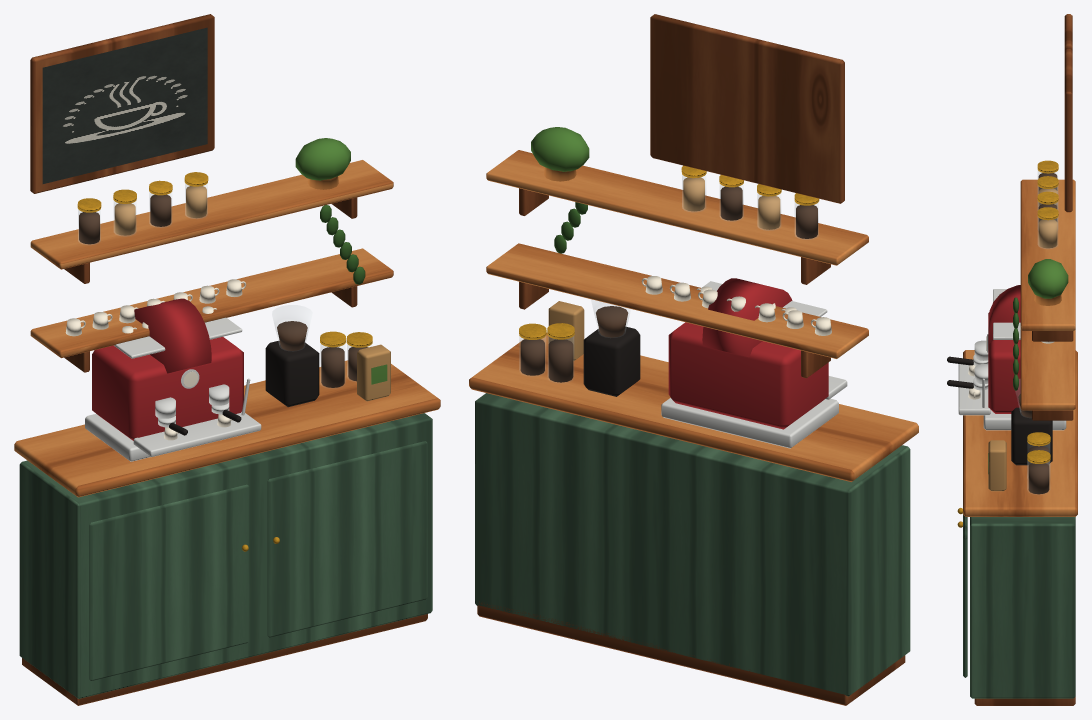
Rendered from espresso_bar.glb.
The picture shows the model from 3 angles, left to right: view 1: azimuth 30°, elevation 25°; view 2: azimuth 150°, elevation 25°; view 3: azimuth 270°, elevation 25°; orthographic projection. The views are drawn at different scales.
Parts seen in each view (by area): view 1: model; view 2: model; view 3: model.
Part boxes in pixels (bbox=[...]): model: bbox=[14, 14, 440, 705]; model: bbox=[469, 14, 918, 705]; model: bbox=[947, 14, 1077, 705].
Bounding box in the file's own units: 1.64 × 2.61 × 0.57.
15 materials, 5 textured.
